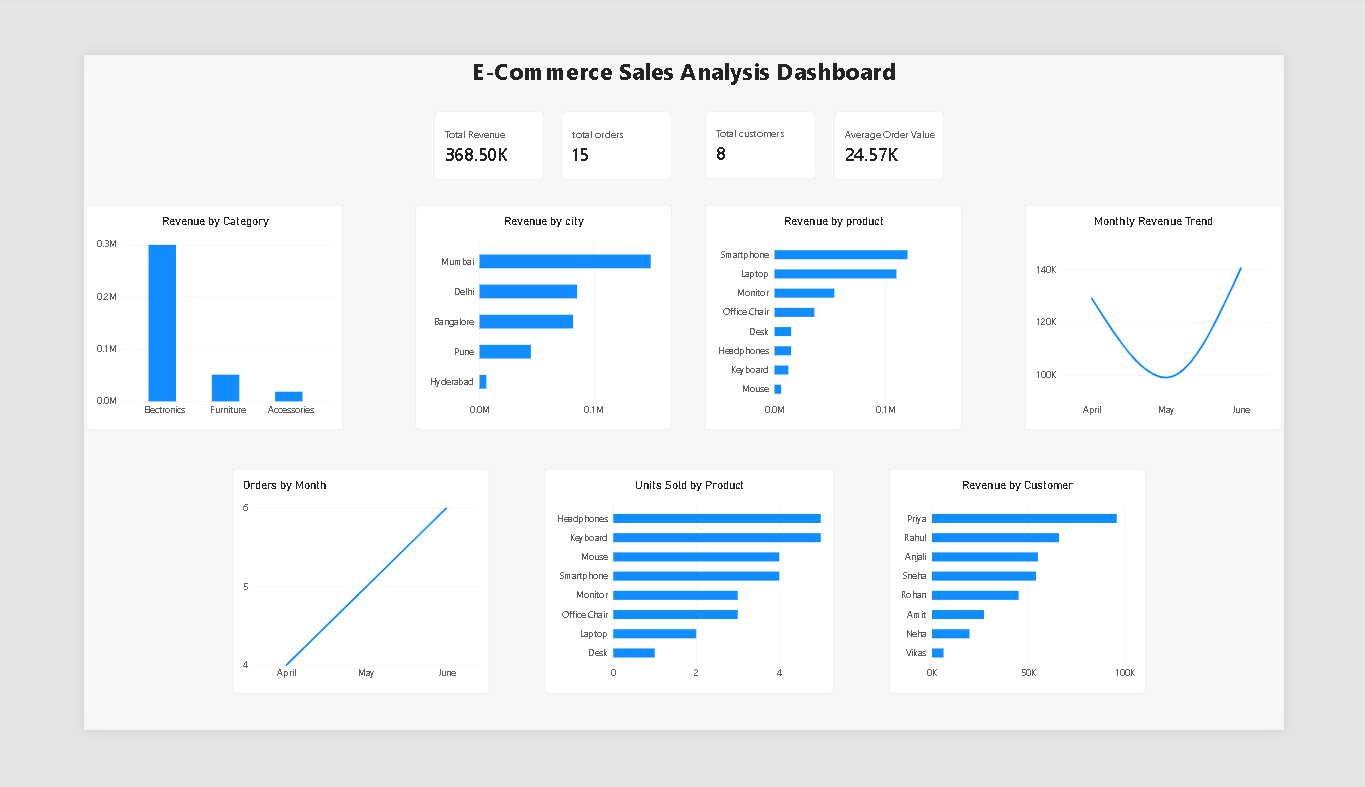

Layout of this report page (visuals, bound fields, positions):
{"tool":"powerbi","page":{"name":"Page 1","canvas":[1920,1080],"ordinal":0},"visuals":[{"type":"cardVisual","fields":{"Data":["ecommerce_sales customers.Total Revenue"]},"box":[560,90,176.2,110],"z":0},{"type":"cardVisual","fields":{"Data":["ecommerce_sales orders.total orders"]},"box":[764,90,176.2,110],"z":1000},{"type":"cardVisual","fields":{"Data":["ecommerce_sales customers.Total customers"]},"box":[994,90,176.2,108.8],"z":2000},{"type":"cardVisual","fields":{"Data":["ecommerce_sales customers.Average Order Value"]},"box":[1200,90,176.2,110],"z":3000},{"type":"clusteredColumnChart","title":"Revenue by Category","fields":{"Category":["ecommerce_sales products.category"],"Y":["ecommerce_sales customers.Total Revenue"]},"box":[4,240,410,360],"z":4000},{"type":"clusteredBarChart","title":"Revenue by city","fields":{"Category":["ecommerce_sales customers.city"],"Y":["ecommerce_sales customers.Total Revenue"]},"box":[530,240,410,360],"z":5000},{"type":"lineChart","title":"Monthly Revenue Trend","fields":{"Category":["ecommerce_sales orders.order_date.Variation.Date Hierarchy.Month"],"Y":["ecommerce_sales customers.Total Revenue"]},"box":[1506,240,410,360],"z":6000},{"type":"clusteredBarChart","title":"Revenue by product","fields":{"Category":["ecommerce_sales products.product_name"],"Y":["ecommerce_sales customers.Total Revenue"]},"box":[994,240,410,360],"z":7000},{"type":"clusteredBarChart","title":"Units Sold by Product","fields":{"Category":["ecommerce_sales products.product_name"],"Y":["Sum(ecommerce_sales orders.quantity)","select"]},"box":[736,662,464,360],"z":8000},{"type":"clusteredBarChart","title":"Revenue by Customer","fields":{"Category":["ecommerce_sales customers.customer_name"],"Y":["ecommerce_sales customers.Total Revenue"]},"box":[1288,662,410,360],"z":9000},{"type":"lineChart","title":"Orders by Month","fields":{"Category":["ecommerce_sales orders.order_date.Variation.Date Hierarchy.Month"],"Y":["ecommerce_sales orders.total orders"]},"box":[238,662,410,360],"z":10000},{"type":"textbox","box":[0,0,1920,90],"z":11000}]}

Visuals, with their boxes in screenshot pixels (x1, y1, x2, y2), scaled from the page's 1920x1080 canvas onto the 1365x787 screenshot:
cardVisual - ecommerce_sales customers.Total Revenue: [398,66,523,146]
cardVisual - ecommerce_sales orders.total orders: [543,66,668,146]
cardVisual - ecommerce_sales customers.Total customers: [707,66,832,145]
cardVisual - ecommerce_sales customers.Average Order Value: [853,66,978,146]
"Revenue by Category" clusteredColumnChart: [3,175,294,437]
"Revenue by city" clusteredBarChart: [377,175,668,437]
"Monthly Revenue Trend" lineChart: [1071,175,1362,437]
"Revenue by product" clusteredBarChart: [707,175,998,437]
"Units Sold by Product" clusteredBarChart: [523,482,853,745]
"Revenue by Customer" clusteredBarChart: [916,482,1207,745]
"Orders by Month" lineChart: [169,482,461,745]
textbox: [0,0,1364,66]
